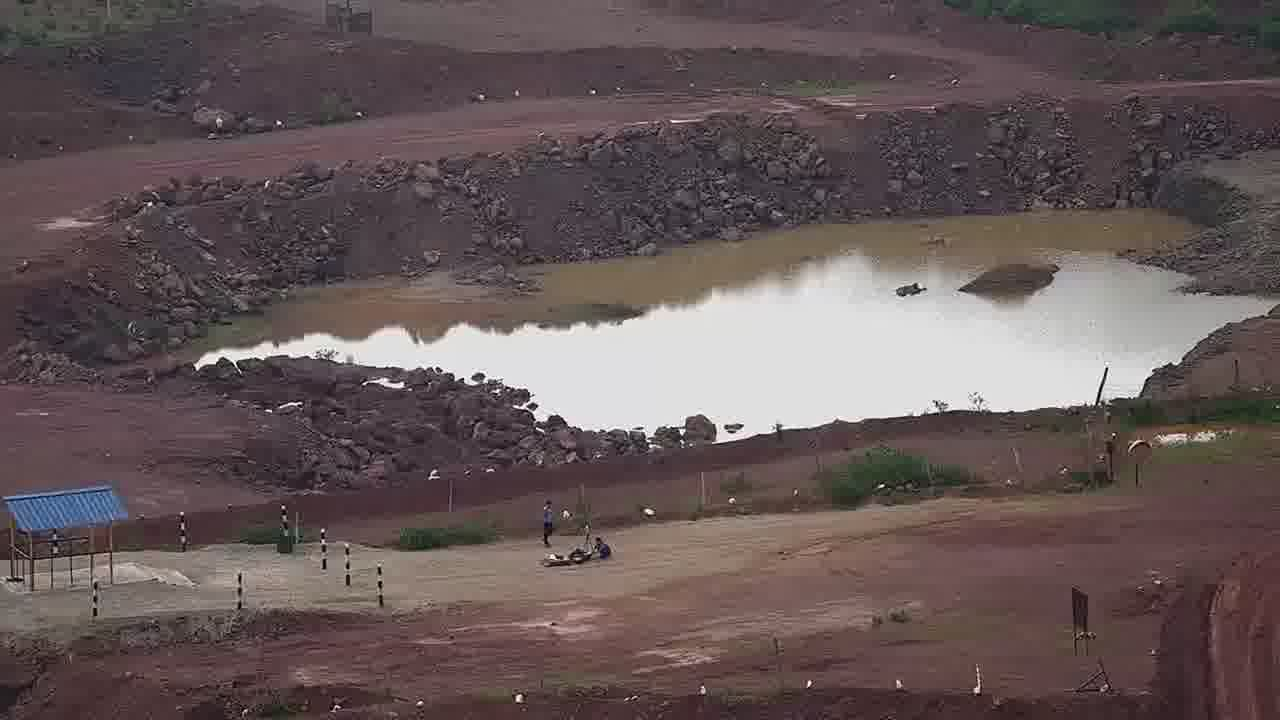person: (537, 499, 558, 550), (592, 535, 616, 564)
